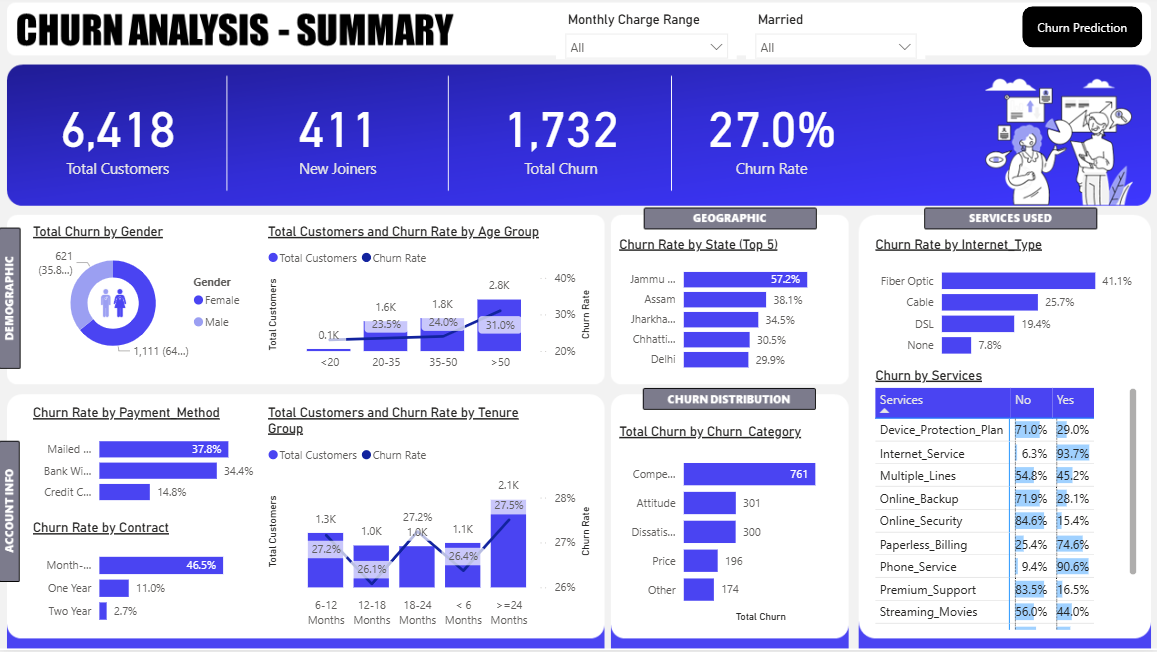

This screenshot's page, from the dashboard's own definition file:
{"tool":"powerbi","page":{"name":"Summary","canvas":[1280,720],"ordinal":0},"visuals":[{"type":"image","box":[98.6,312.9,61.4,50],"z":0},{"type":"card","fields":{"Values":["tbl_measures.Total Customers"]},"box":[14.3,71.4,240,161.4],"z":1000},{"type":"card","fields":{"Values":["tbl_measures.New Joiners"]},"box":[254.3,71.4,242.9,161.4],"z":2000},{"type":"card","fields":{"Values":["tbl_measures.Total Churn"]},"box":[497.1,71.4,247.1,161.4],"z":3000},{"type":"card","fields":{"Values":["tbl_measures.Churn Rate"]},"box":[744.3,71.4,215.7,161.4],"z":4000},{"type":"donutChart","fields":{"Category":["prod_Churn.Gender"],"Y":["tbl_measures.Total Churn"]},"box":[35.7,251.4,247.1,157.1],"z":5000},{"type":"lineStackedColumnComboChart","fields":{"Category":["mapping_AgeGrp.Age Group"],"Y":["tbl_measures.Total Customers"],"Y2":["tbl_measures.Churn Rate"]},"box":[294.3,251.4,365.7,170],"z":6000},{"type":"clusteredBarChart","fields":{"Category":["prod_Churn.Payment_Method"],"Y":["tbl_measures.Churn Rate"]},"box":[35.7,450,258.6,120],"z":7000},{"type":"clusteredBarChart","fields":{"Category":["prod_Churn.Contract"],"Y":["tbl_measures.Churn Rate"]},"box":[35.7,575.7,258.6,125.7],"z":8000},{"type":"lineStackedColumnComboChart","fields":{"Category":["mapping_TenureGrp.Tenure Group"],"Y":["tbl_measures.Total Customers"],"Y2":["tbl_measures.Churn Rate"]},"box":[294.3,450,365.7,251.4],"z":9000},{"type":"clusteredBarChart","title":"Churn Rate by State (Top 5)","fields":{"Category":["prod_Churn.State"],"Y":["tbl_measures.Churn Rate"]},"box":[678.6,264.3,250,158.6],"z":10000},{"type":"clusteredBarChart","fields":{"Category":["prod_Churn.Churn_Category"],"Y":["tbl_measures.Total Churn"]},"box":[678.6,470,250,222.9],"z":11000},{"type":"clusteredBarChart","fields":{"Category":["prod_Churn.Internet_Type"],"Y":["tbl_measures.Churn Rate"]},"box":[960,264.3,297.1,144.3],"z":12000},{"type":"pivotTable","title":"Churn by Services","fields":{"Rows":["prod_Services.Services"],"Columns":["prod_Services.Status"],"Values":["Sum(prod_Services.Churn Status)"]},"box":[960,408.6,297.1,292.9],"z":13000},{"type":"slicer","fields":{"Values":["prod_Churn.Monthly Charge Status"]},"box":[615,14.4,198.8,56.9],"z":14000},{"type":"slicer","fields":{"Values":["prod_Churn.Married"]},"box":[823.8,14.4,196.9,56.9],"z":15000},{"type":"shape","box":[1126.6,12.3,131.7,45.3],"z":16000}]}

Visuals, with their boxes in screenshot pixels (x1, y1, x2, y2), scaled from the page's 1280x720 canvas onto the 1157x652 screenshot:
image: {"left": 89, "top": 283, "right": 145, "bottom": 329}
card - tbl_measures.Total Customers: {"left": 13, "top": 65, "right": 230, "bottom": 211}
card - tbl_measures.New Joiners: {"left": 230, "top": 65, "right": 449, "bottom": 211}
card - tbl_measures.Total Churn: {"left": 449, "top": 65, "right": 673, "bottom": 211}
card - tbl_measures.Churn Rate: {"left": 673, "top": 65, "right": 868, "bottom": 211}
donutChart - prod_Churn.Gender x tbl_measures.Total Churn: {"left": 32, "top": 228, "right": 256, "bottom": 370}
lineStackedColumnComboChart - mapping_AgeGrp.Age Group x tbl_measures.Total Customers: {"left": 266, "top": 228, "right": 597, "bottom": 382}
clusteredBarChart - prod_Churn.Payment_Method x tbl_measures.Churn Rate: {"left": 32, "top": 408, "right": 266, "bottom": 516}
clusteredBarChart - prod_Churn.Contract x tbl_measures.Churn Rate: {"left": 32, "top": 521, "right": 266, "bottom": 635}
lineStackedColumnComboChart - mapping_TenureGrp.Tenure Group x tbl_measures.Total Customers: {"left": 266, "top": 408, "right": 597, "bottom": 635}
"Churn Rate by State (Top 5)" clusteredBarChart: {"left": 613, "top": 239, "right": 839, "bottom": 383}
clusteredBarChart - prod_Churn.Churn_Category x tbl_measures.Total Churn: {"left": 613, "top": 426, "right": 839, "bottom": 627}
clusteredBarChart - prod_Churn.Internet_Type x tbl_measures.Churn Rate: {"left": 868, "top": 239, "right": 1136, "bottom": 370}
"Churn by Services" pivotTable: {"left": 868, "top": 370, "right": 1136, "bottom": 635}
slicer - prod_Churn.Monthly Charge Status: {"left": 556, "top": 13, "right": 736, "bottom": 65}
slicer - prod_Churn.Married: {"left": 745, "top": 13, "right": 923, "bottom": 65}
shape: {"left": 1018, "top": 11, "right": 1137, "bottom": 52}
